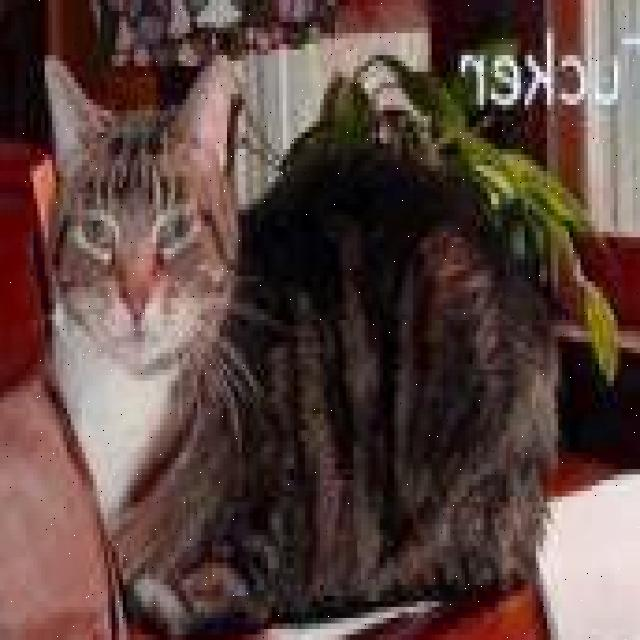Cat: (45, 22, 248, 396)
